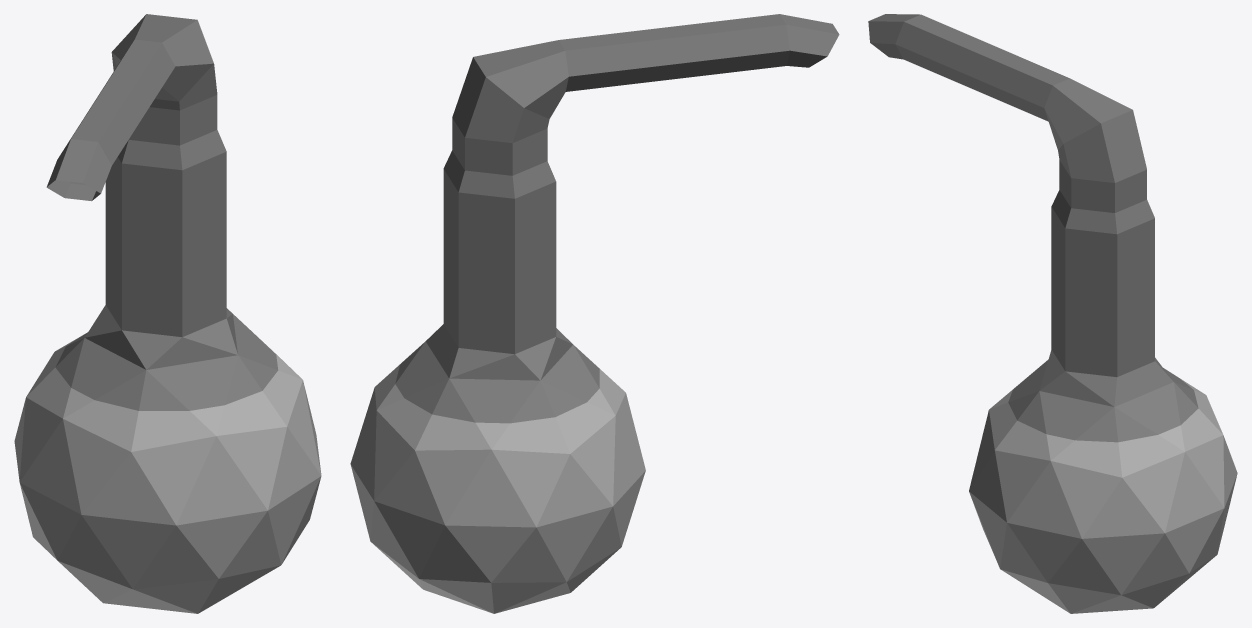
File: alchemist_aparatus_749x14.gltf
3 renders of one model, left to right at view 1: azimuth 30°, elevation 25°; view 2: azimuth 150°, elevation 25°; view 3: azimuth 270°, elevation 25°, orthographic. The views are drawn at different scales.
Parts seen in each view (by area): view 1: alchemist_aparatus_749x14; view 2: alchemist_aparatus_749x14; view 3: alchemist_aparatus_749x14.
Part boxes in pixels (x1=…): alchemist_aparatus_749x14: x1=14, y1=14, x2=321, y2=613; alchemist_aparatus_749x14: x1=350, y1=14, x2=839, y2=613; alchemist_aparatus_749x14: x1=868, y1=14, x2=1237, y2=613.
Bounding box in the file's own units: 0.7126 × 1.07 × 0.7091.
Materials: 2 (2 with a texture image).
